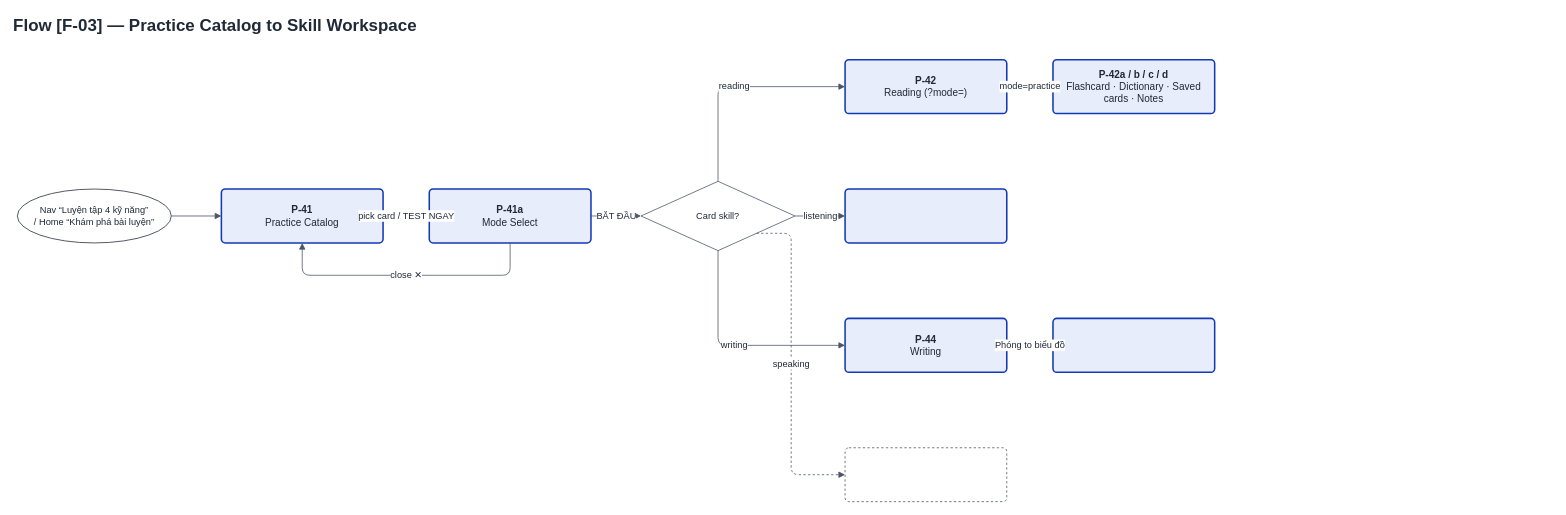
This 1566x515 diagram has some shape labels left out. Each missing label, with the box of its shape:
P-43 Listening: (844, 188, 1007, 243)
P-44a Chart Zoom: (1052, 317, 1215, 373)
P-45 Speaking: (844, 447, 1007, 502)
